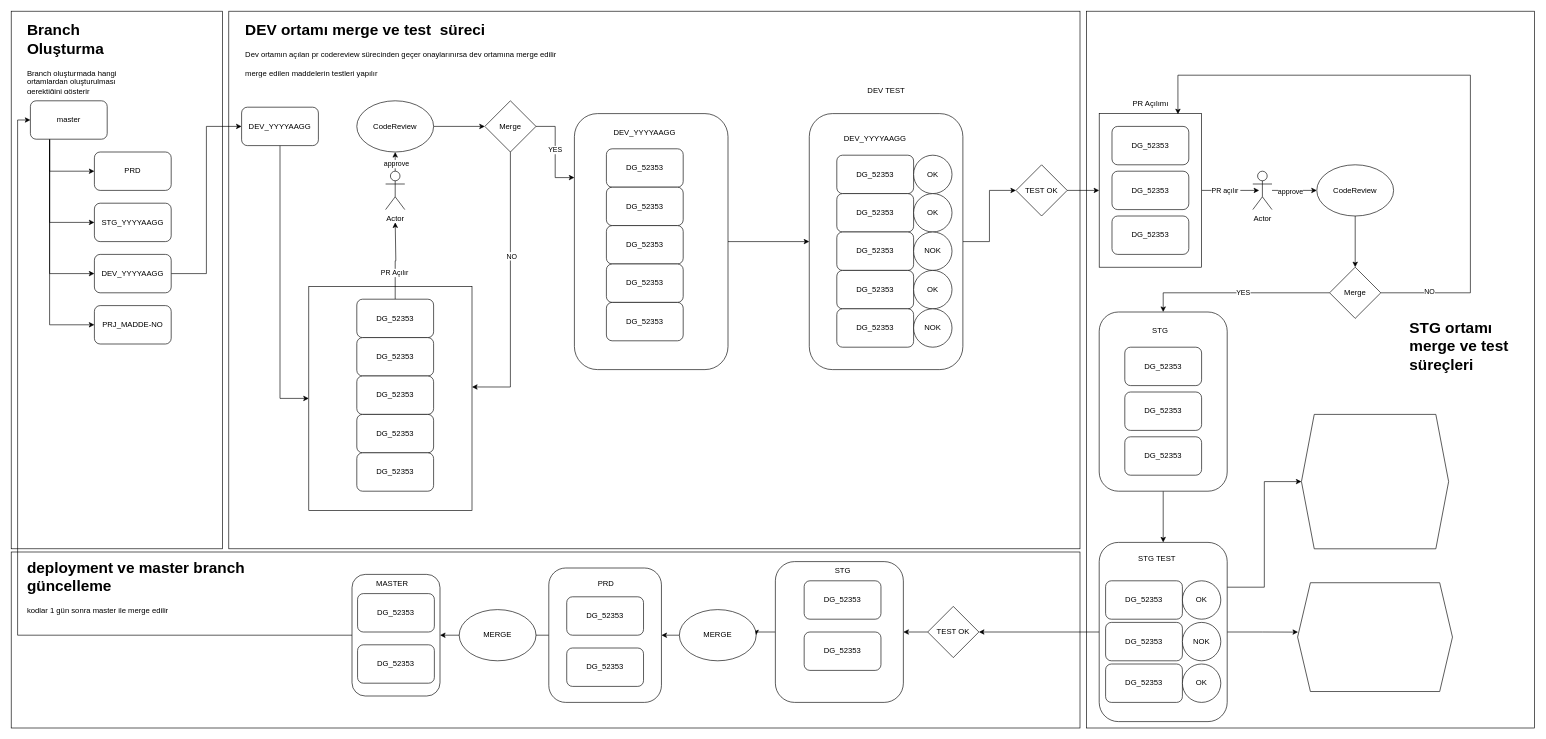
This 1546x739 diagram has some shape labels left out. Each missing label, with the centre of its shape:
"SonarQube" goes at point (1374, 637).
"Test Otomasyon" goes at point (1375, 481).
